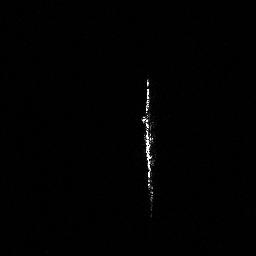ship: (137, 74, 160, 218)
